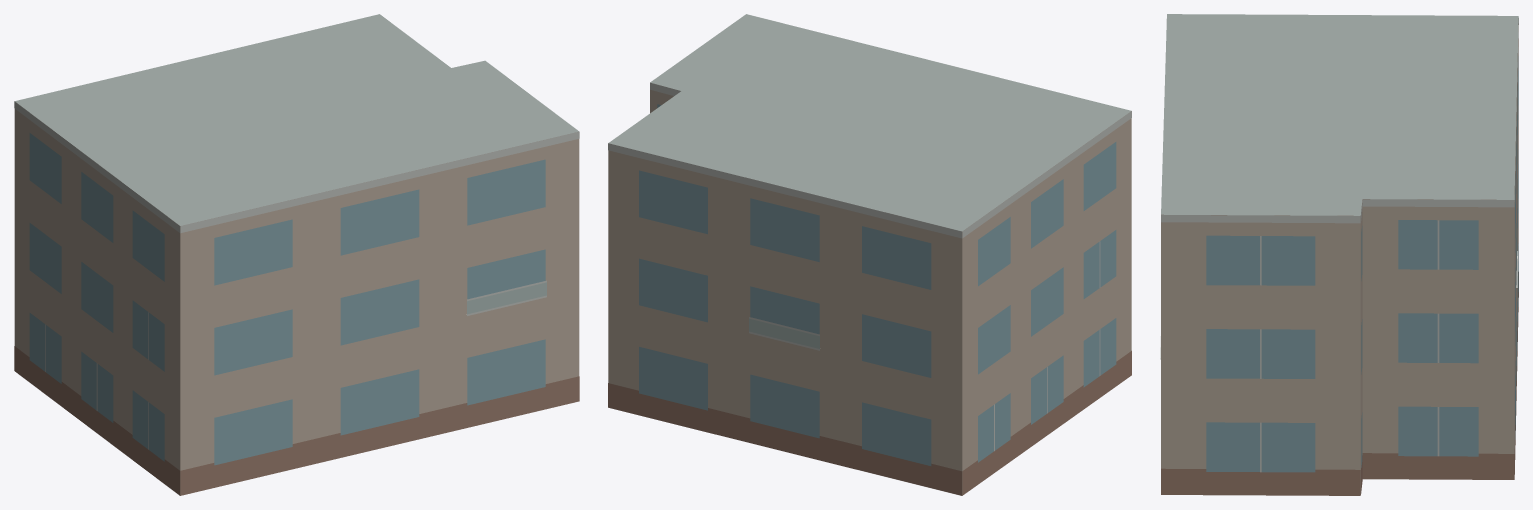
The model's file is survey-upis-33001564.glb.
The picture shows the model from 3 angles, left to right: view 1: azimuth 30°, elevation 25°; view 2: azimuth 150°, elevation 25°; view 3: azimuth 270°, elevation 25°; orthographic projection. The views are drawn at different scales.
Visible parts, largest first — view 1: survey-upis-33001564.tmp; view 2: survey-upis-33001564.tmp; view 3: survey-upis-33001564.tmp.
Part boxes in pixels (x1=…): survey-upis-33001564.tmp: x1=14, y1=14, x2=579, y2=495; survey-upis-33001564.tmp: x1=608, y1=14, x2=1131, y2=495; survey-upis-33001564.tmp: x1=1160, y1=14, x2=1518, y2=495.
Bounding box in the file's own units: 14.15 × 9.15 × 10.62.
